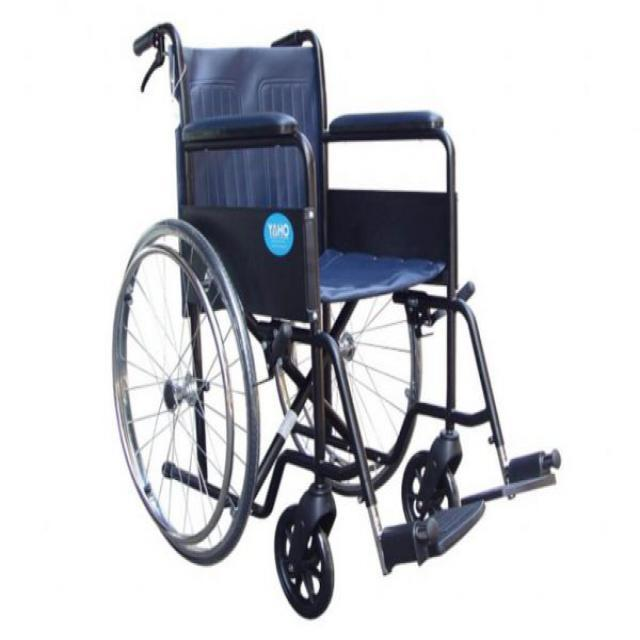wheelchairs: (114, 24, 561, 620)
